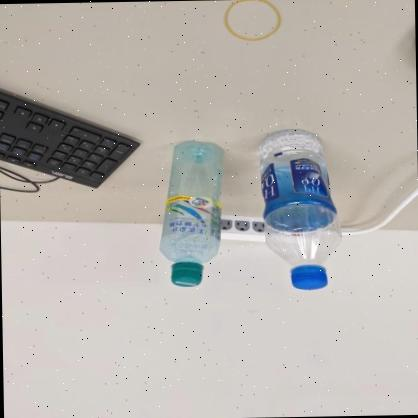bottle: (255, 125, 345, 294), (149, 140, 229, 290)
cap: (166, 259, 207, 287), (290, 263, 328, 290)
label: (262, 148, 333, 218), (159, 196, 227, 238)
